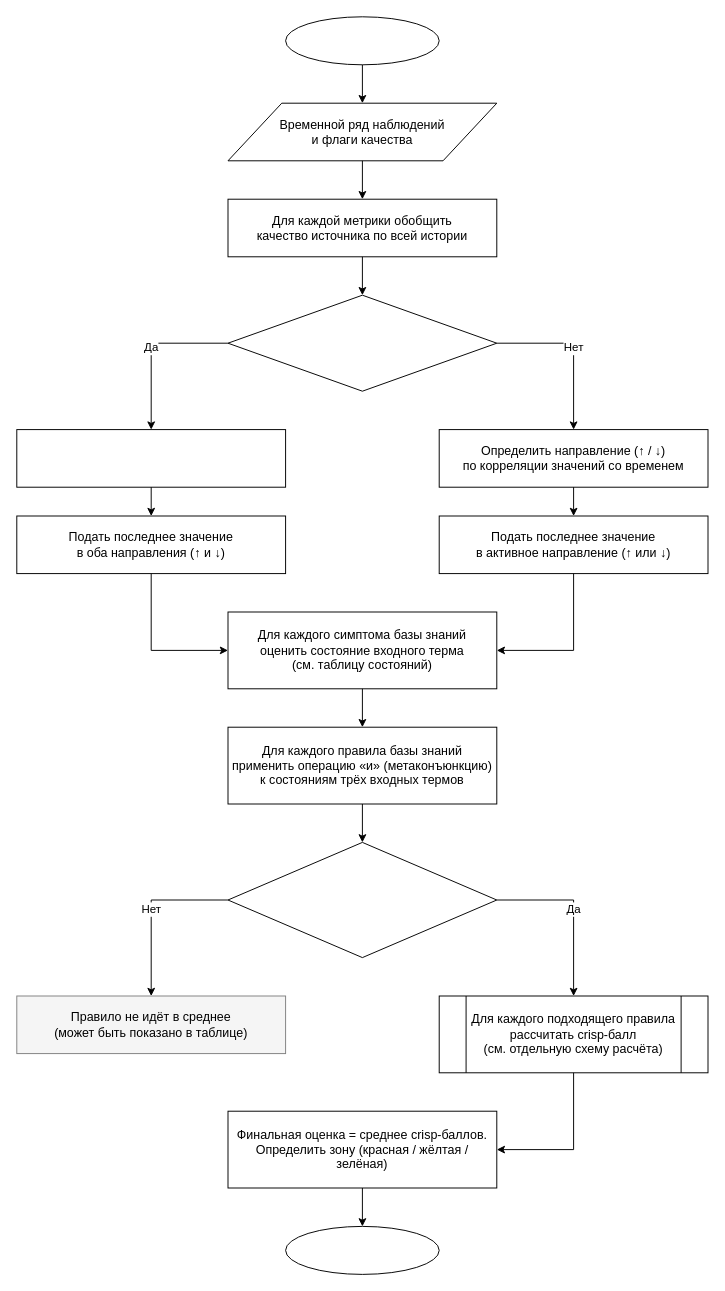
Some shapes in this 725 by 1291 pixel diagram are drawn without their labels. The centre of each missing label's shape, as x and y in pixels:
"История метрики имеет пропуски?" belongs at (362,342).
"Конец" belongs at (362,1249).
"Направление считается неопределённым" belongs at (151,458).
"Начало" belongs at (362,40).
"Состояние правила: подходит / может подходить / часть данных недоступна?" belongs at (362,899).
